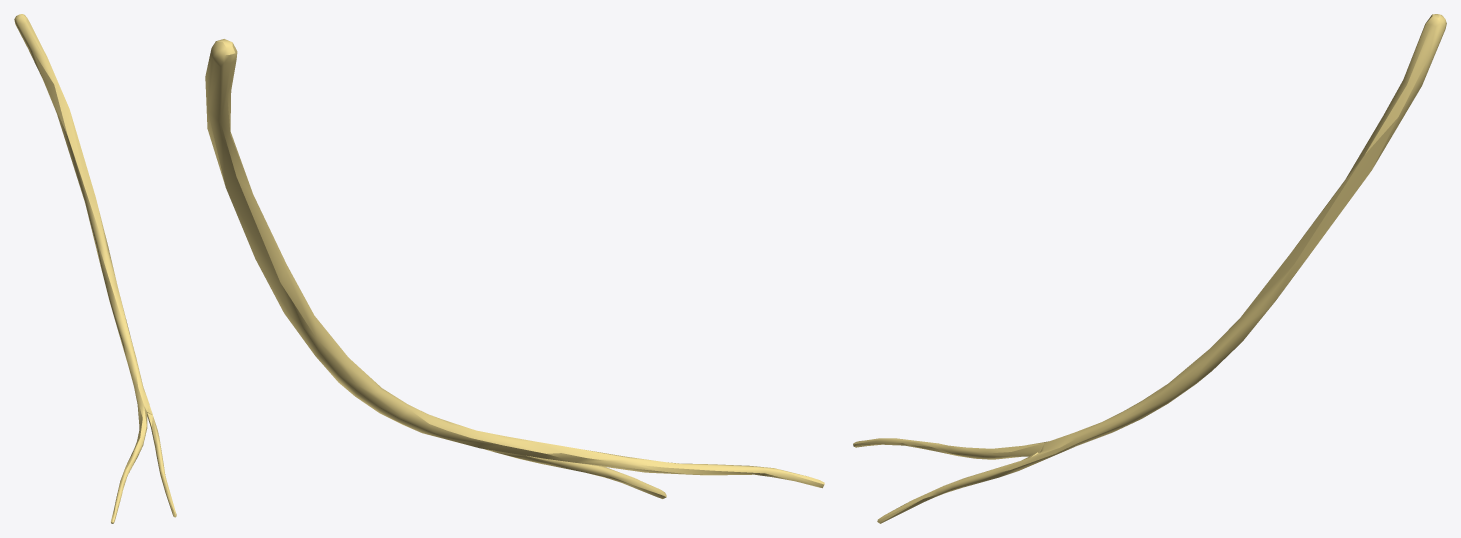
The model's file is fma79671_fj4241.glb.
3 views of the same model, side by side, from view 1: azimuth 30°, elevation 25°; view 2: azimuth 150°, elevation 25°; view 3: azimuth 270°, elevation 25° (orthographic). The views are drawn at different scales.
Parts seen in each view (by area): view 1: FMA79671_FJ4241; view 2: FMA79671_FJ4241; view 3: FMA79671_FJ4241.
Part boxes in pixels (bbox=[...]): FMA79671_FJ4241: bbox=[14, 14, 176, 523]; FMA79671_FJ4241: bbox=[205, 39, 824, 498]; FMA79671_FJ4241: bbox=[853, 14, 1446, 523].
Size of the model in its own units: 0.0188 by 0.0486 by 0.0491.
